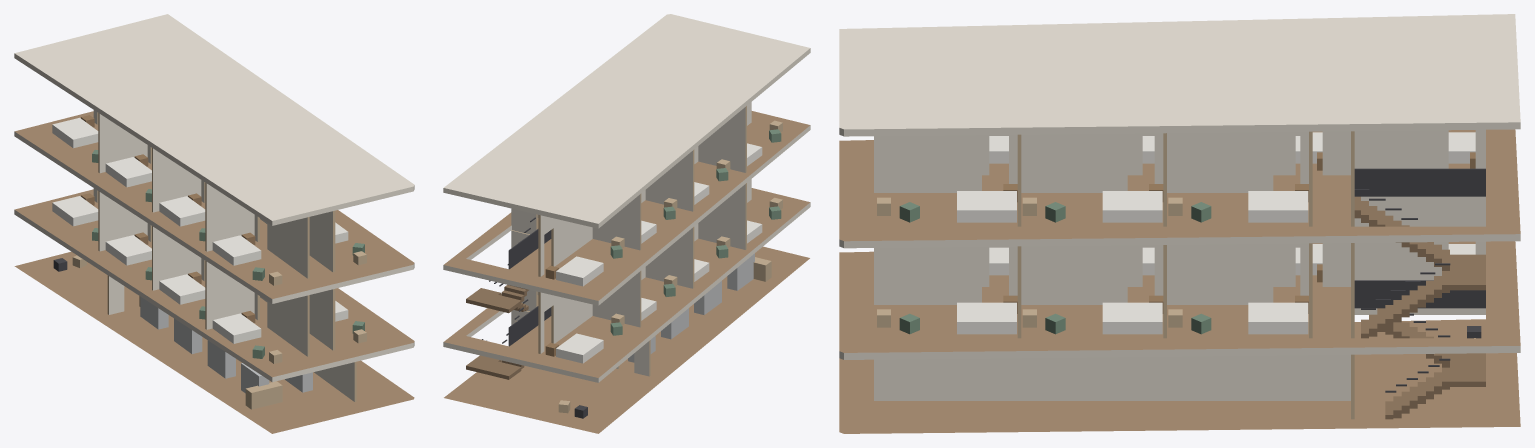
File: interior.glb
The picture shows the model from 3 angles, left to right: view 1: azimuth 30°, elevation 25°; view 2: azimuth 150°, elevation 25°; view 3: azimuth 270°, elevation 25°; orthographic projection. The views are drawn at different scales.
Parts seen in each view (by area): view 1: slabs, partitions, coarse-s1, coarse-s2, coarse-s0; view 2: slabs, partitions, stair, coarse-s1, coarse-s2, coarse-s0; view 3: slabs, partitions, stair, coarse-s2, coarse-s1.
Boxes of the visible parts, x1,y1,x2,y2 form: slabs: [14, 14, 414, 433]; partitions: [93, 110, 356, 401]; coarse-s1: [52, 193, 366, 363]; coarse-s2: [52, 115, 366, 285]; coarse-s0: [53, 255, 312, 409]; slabs: [443, 14, 810, 433]; partitions: [511, 102, 751, 376]; stair: [466, 217, 551, 379]; coarse-s1: [545, 197, 782, 363]; coarse-s2: [545, 120, 782, 286]; coarse-s0: [558, 253, 771, 418]; slabs: [839, 14, 1520, 433]; partitions: [874, 129, 1485, 419]; stair: [1354, 168, 1485, 419]; coarse-s2: [877, 132, 1475, 222]; coarse-s1: [877, 244, 1475, 334].
Bounding box in the file's own units: 9.11 × 11.22 × 22.71.
